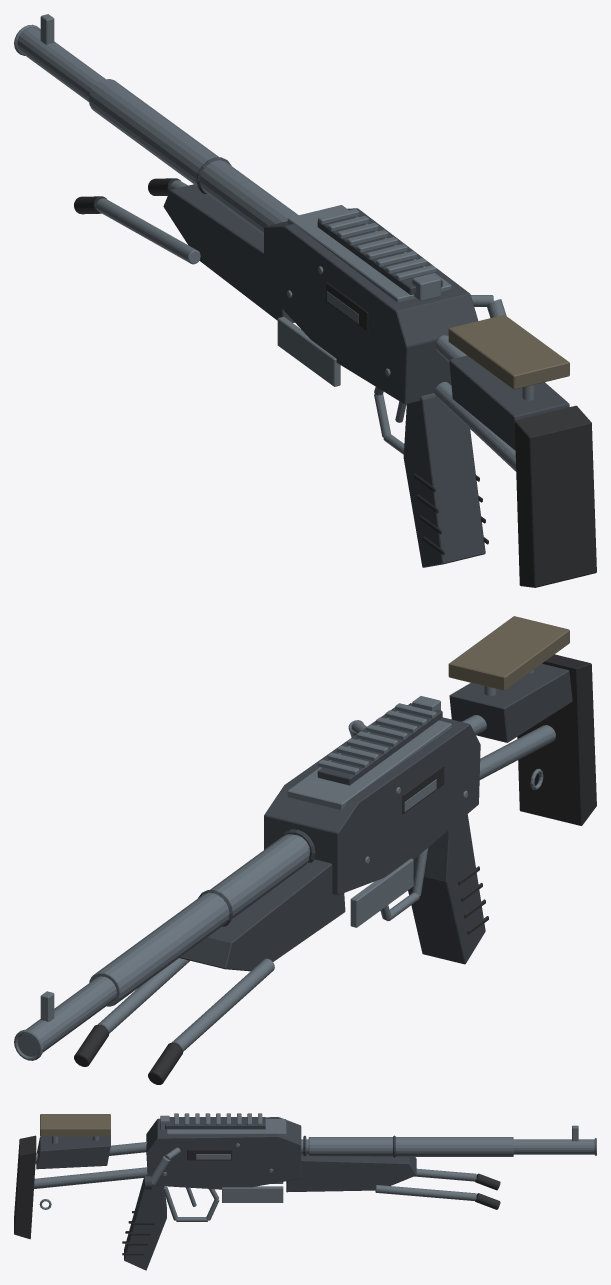
File: Firearm_803.fbx
3 renders of one model, top to bottom at view 1: azimuth 30°, elevation 25°; view 2: azimuth 150°, elevation 25°; view 3: azimuth 270°, elevation 25°, orthographic. The views are drawn at different scales.
Visible parts, largest first — view 1: Firearm_803; view 2: Firearm_803; view 3: Firearm_803.
Part boxes in pixels (x1=…): Firearm_803: x1=14, y1=14, x2=596, y2=587; Firearm_803: x1=14, y1=616, x2=596, y2=1084; Firearm_803: x1=14, y1=1113, x2=596, y2=1270.
Size of the model in its own units: 0.2133 by 0.4344 by 1.56.
